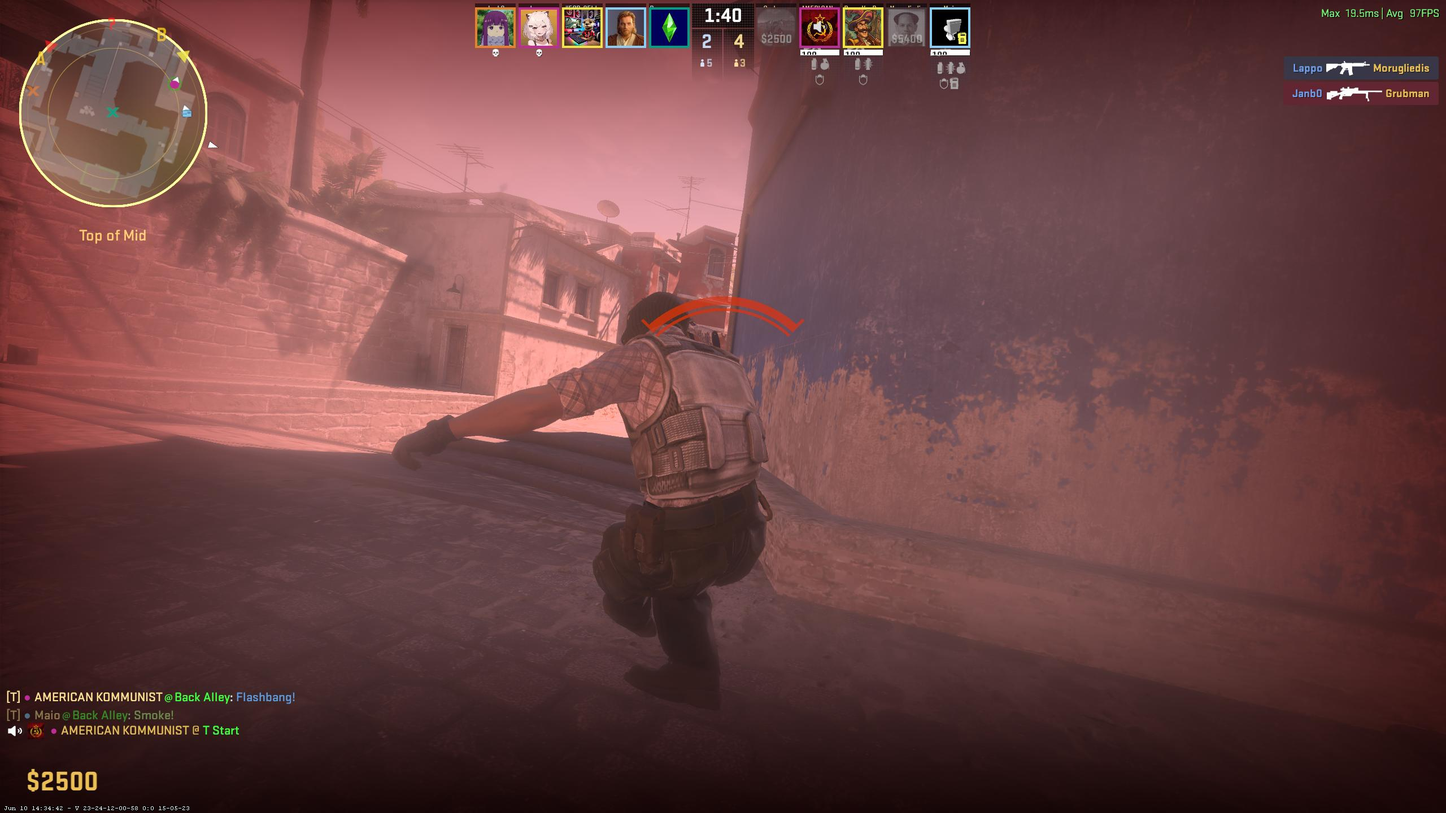Terrorist: (418, 288, 770, 705)
